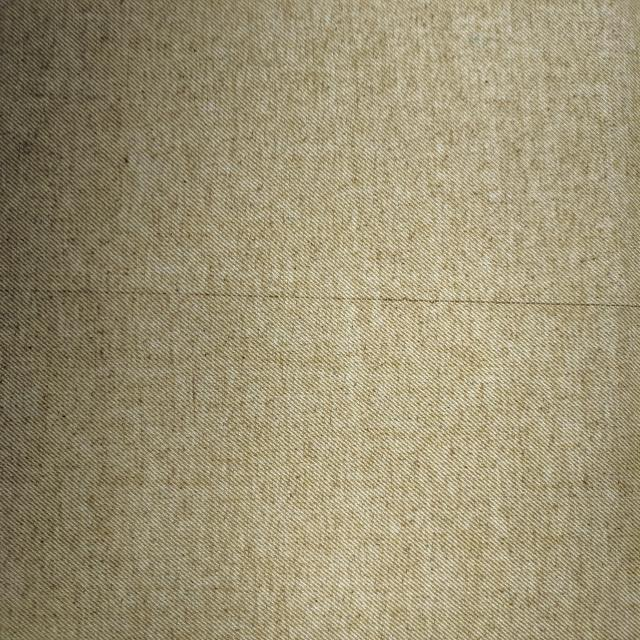Line: (0, 285, 639, 311)
